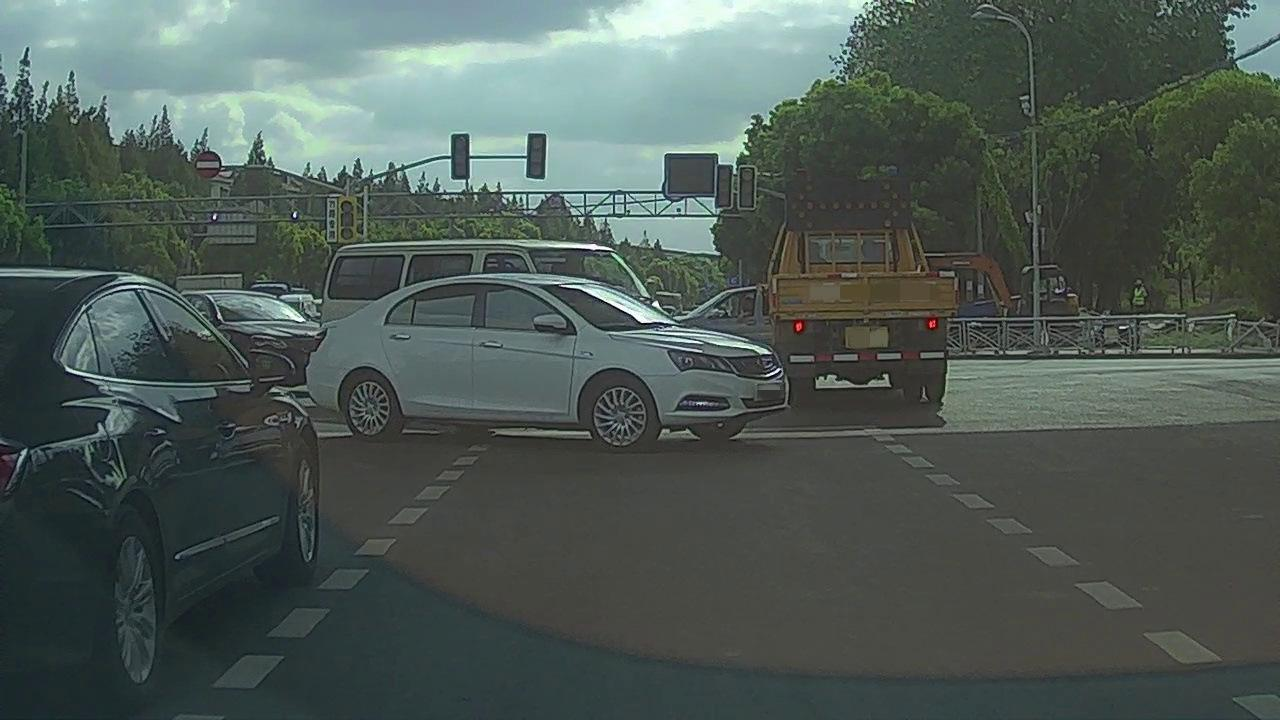traffic_light: (450, 131, 469, 180), (527, 132, 545, 180), (739, 167, 756, 209), (717, 163, 731, 207)
